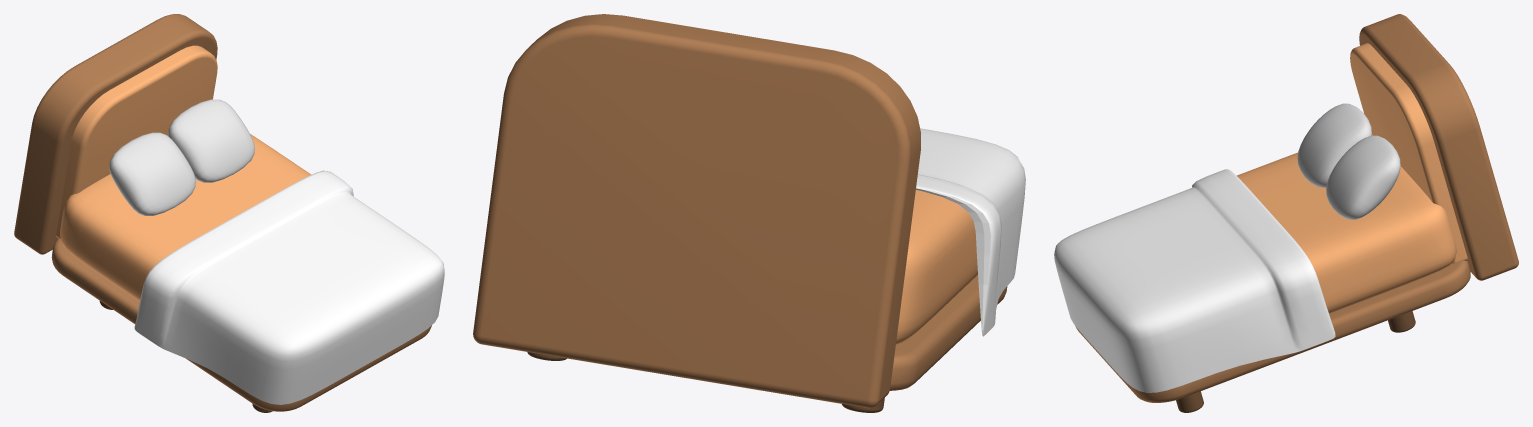
Rendered from Bed.fbx.
The picture shows the model from 3 angles, left to right: view 1: azimuth 30°, elevation 25°; view 2: azimuth 150°, elevation 25°; view 3: azimuth 270°, elevation 25°; orthographic projection. The views are drawn at different scales.
Visible parts, largest first — view 1: Cube.198, Cube.157, Cube.158, Cube.159, Cube.160, Cube.161, Cube.156; view 2: Cube.158, Cube.198, Cube.157, Cube.156; view 3: Cube.198, Cube.157, Cube.158, Cube.159, Cube.156, Cube.161, Cube.160, Cylinder.055, Cylinder.057.
Part boxes in pixels (x1,y1,x2,y2): Cube.198: (134, 170, 444, 404); Cube.157: (60, 134, 311, 300); Cube.158: (14, 14, 217, 254); Cube.159: (56, 45, 217, 238); Cube.160: (109, 132, 195, 215); Cube.161: (168, 99, 254, 182); Cube.156: (51, 238, 431, 411); Cube.158: (473, 14, 920, 408); Cube.198: (916, 128, 1025, 336); Cube.157: (896, 190, 977, 344); Cube.156: (890, 275, 1007, 390); Cube.198: (1054, 169, 1335, 392); Cube.157: (1237, 135, 1456, 313); Cube.158: (1359, 14, 1518, 280); Cube.159: (1350, 43, 1467, 263); Cube.156: (1075, 260, 1470, 402); Cube.161: (1326, 135, 1400, 219); Cube.160: (1297, 103, 1371, 187); Cylinder.055: (1176, 391, 1203, 412); Cylinder.057: (1388, 311, 1415, 332).
Size of the model in its own units: 532 by 475 by 664.
